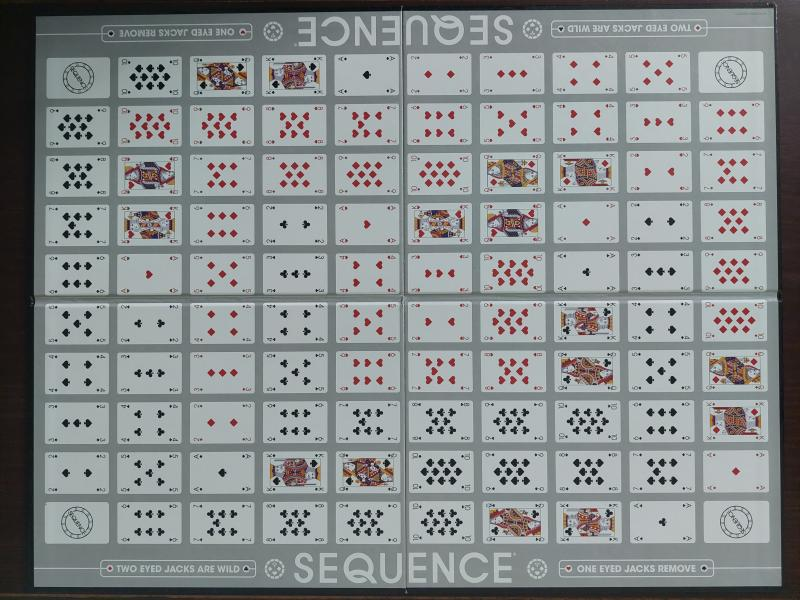Board: (21, 0, 792, 596)
